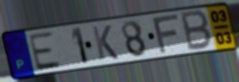1: (71, 25, 91, 67)
8: (121, 20, 148, 58)
B: (180, 9, 214, 53)
E: (26, 31, 63, 73)
F: (151, 12, 182, 56)
K: (90, 24, 121, 61)
